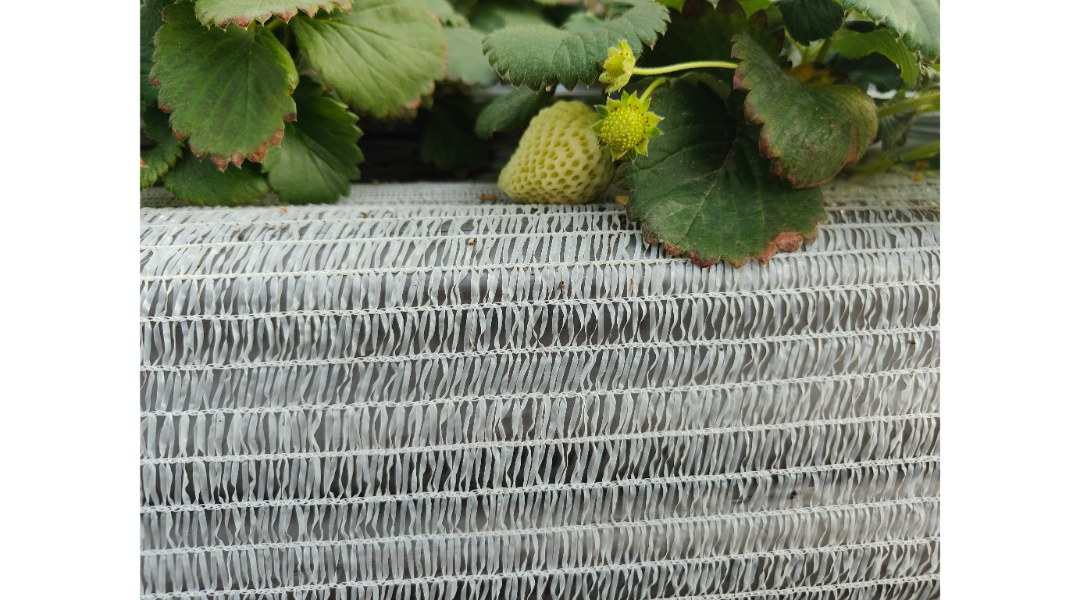berry: (487, 90, 614, 200), (598, 89, 673, 154), (595, 42, 645, 84)
strain: (646, 52, 757, 84)
